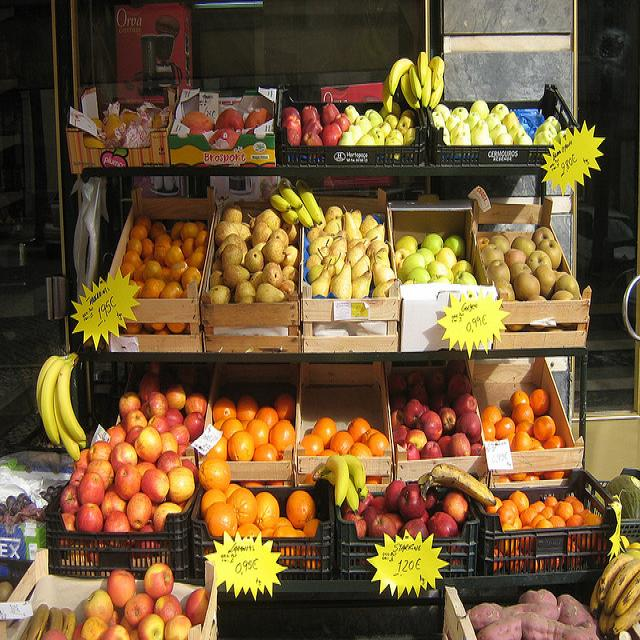Vehicle: (578, 207, 636, 273)
